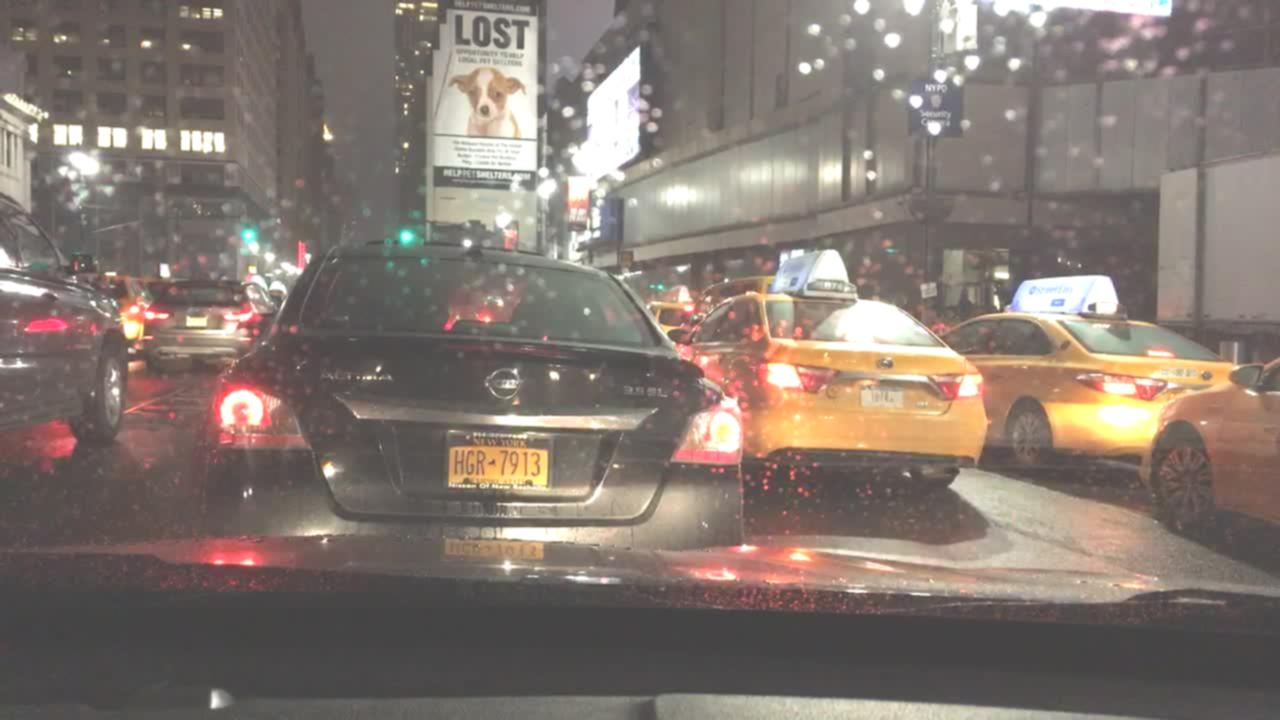Nissan: (477, 357, 531, 410)
